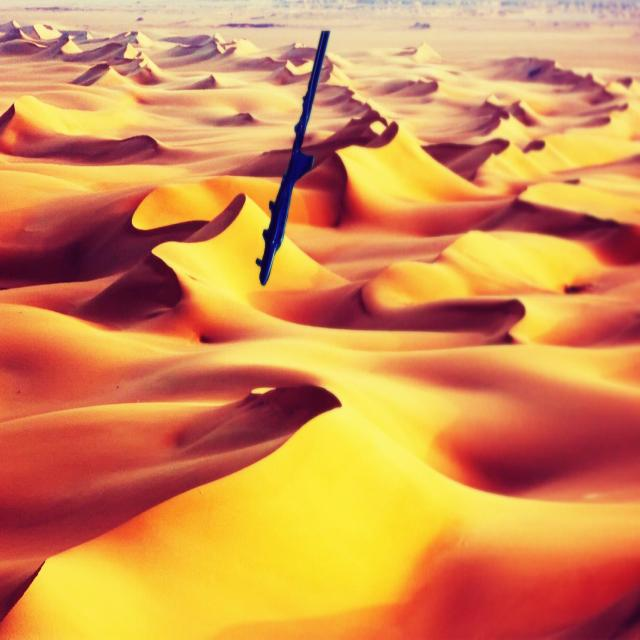airplane: (255, 32, 331, 286)
